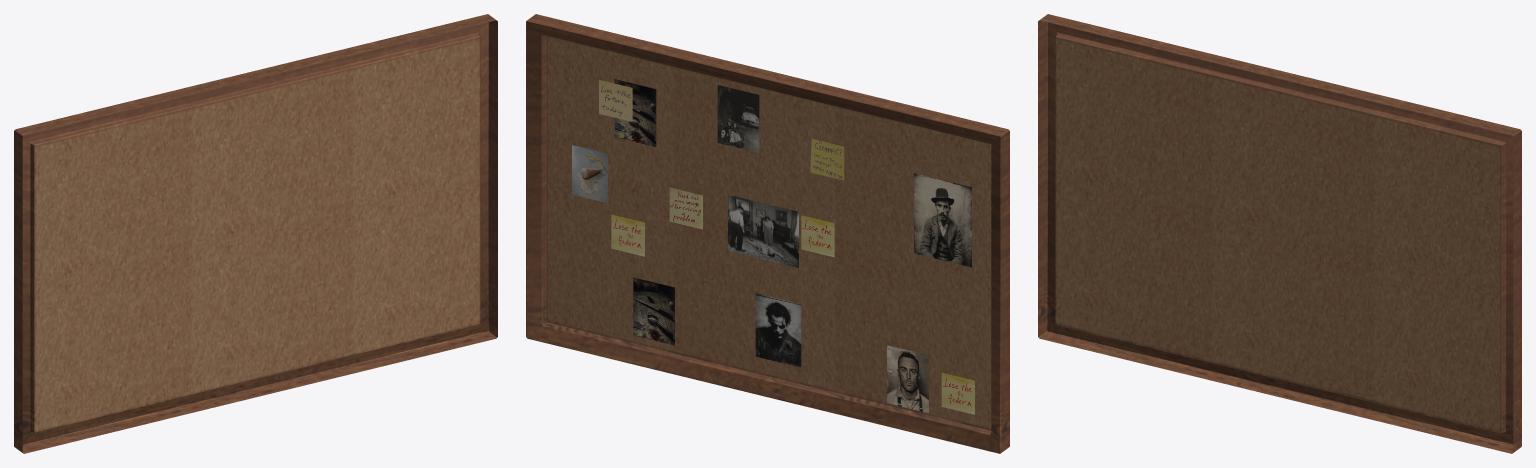
The model's file is board.obj.
The picture shows the model from 3 angles, left to right: view 1: azimuth 30°, elevation 25°; view 2: azimuth 150°, elevation 25°; view 3: azimuth 330°, elevation 25°; orthographic projection.
Visible parts, largest first — view 1: 2; view 2: 2; view 3: 2.
Boxes of the visible parts, x1,y1,x2,y2 form: 2: [14, 14, 497, 453]; 2: [526, 14, 1009, 453]; 2: [1038, 14, 1521, 453].
Size of the model in its own units: 131 by 83.76 by 4.29.
